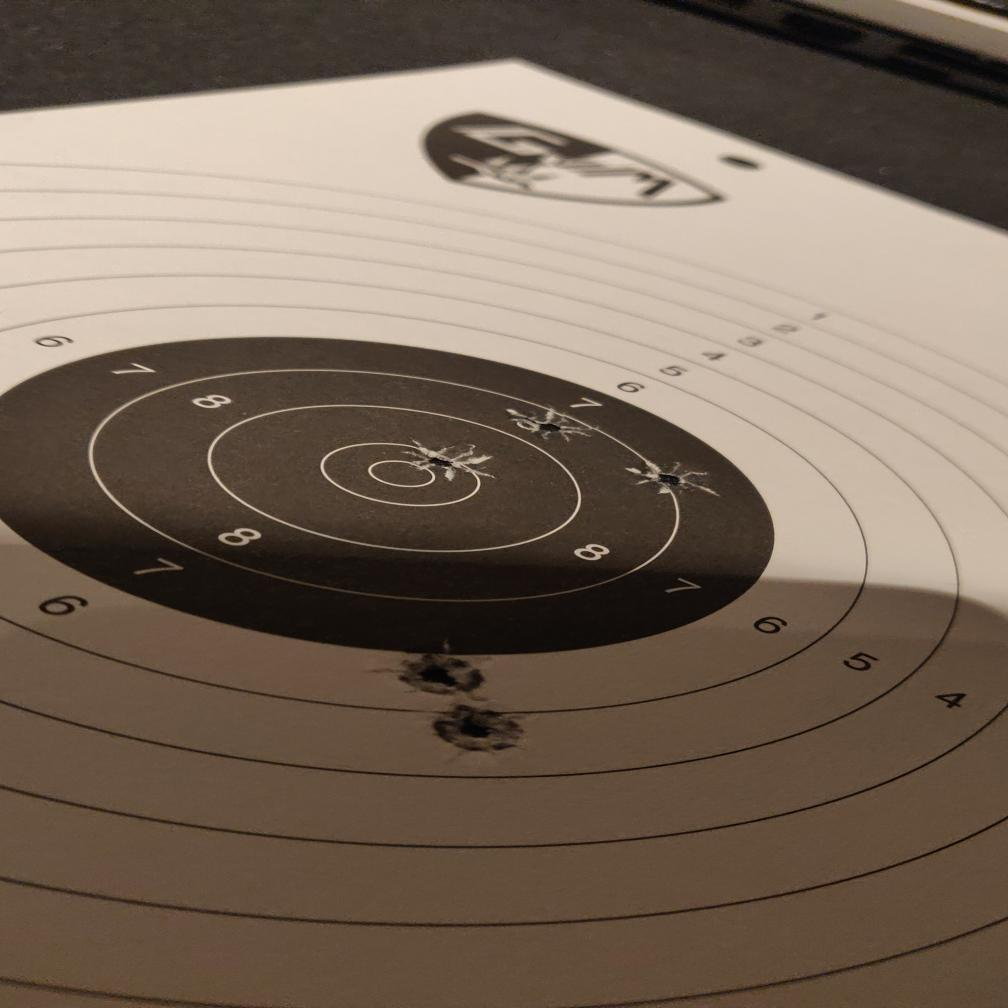10: (402, 438, 497, 484)
6: (428, 702, 530, 756), (374, 652, 488, 700)
8: (620, 459, 718, 498), (504, 404, 592, 443)
Target: (0, 153, 1008, 1008)
black_contour: (0, 336, 776, 653)
